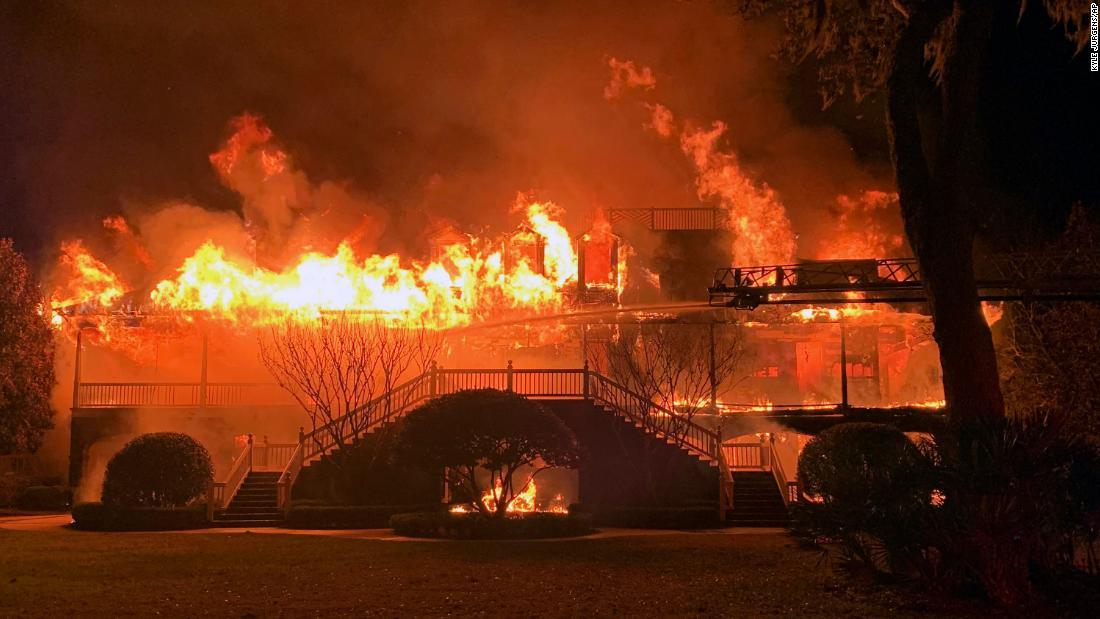fire: (188, 255, 552, 308)
